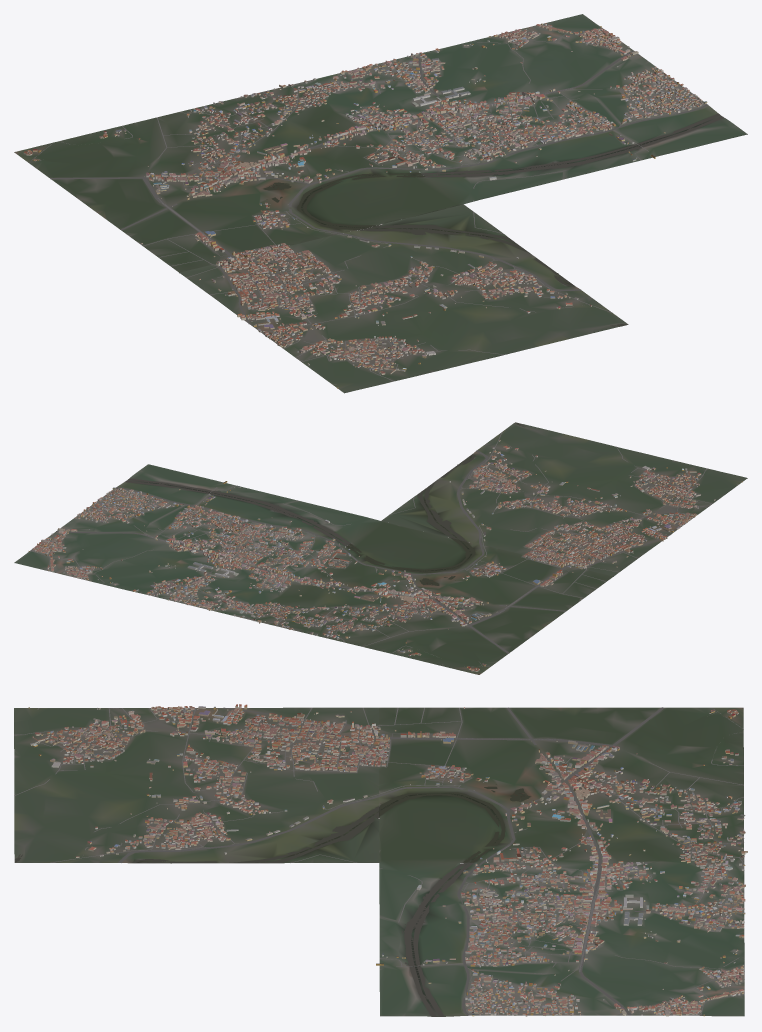
The picture shows the model from 3 angles, top to bottom: view 1: azimuth 30°, elevation 25°; view 2: azimuth 150°, elevation 25°; view 3: azimuth 270°, elevation 25°; orthographic projection. The views are drawn at different scales.
Visible parts, largest first — view 1: ground, buildings, roads, water; view 2: ground, buildings, roads, water; view 3: ground, buildings, roads, water.
Boxes of the visible parts, x1=… form: ground: x1=14, y1=14, x2=747, y2=393; buildings: x1=23, y1=23, x2=707, y2=388; roads: x1=31, y1=23, x2=708, y2=384; water: x1=263, y1=113, x2=723, y2=326; ground: x1=14, y1=422, x2=747, y2=674; buildings: x1=28, y1=440, x2=742, y2=671; roads: x1=30, y1=432, x2=738, y2=666; water: x1=125, y1=422, x2=525, y2=585; ground: x1=14, y1=707, x2=744, y2=1016; buildings: x1=28, y1=704, x2=747, y2=1016; roads: x1=14, y1=707, x2=744, y2=1015; water: x1=14, y1=784, x2=530, y2=1016.
Bounding box in the file's own units: 2813 × 33.57 × 2820.
